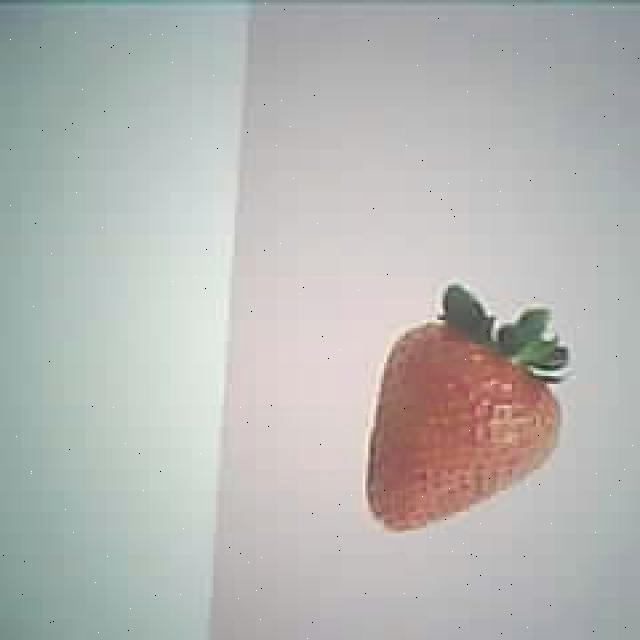ripe: (366, 318, 568, 532)
